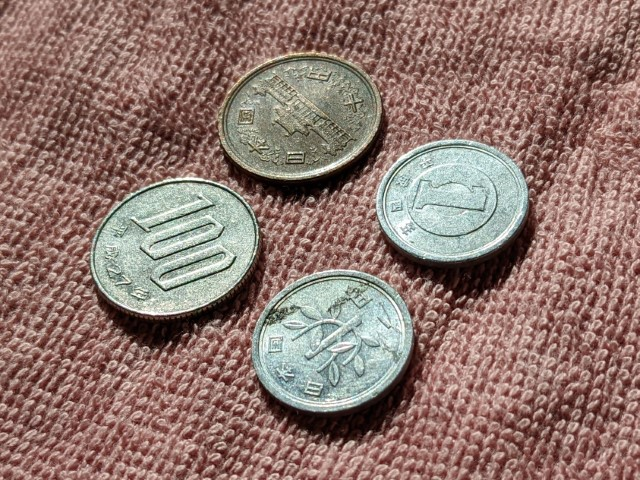100yen: (90, 177, 262, 322)
10yen: (218, 53, 382, 183)
1yen: (252, 270, 414, 415), (377, 139, 529, 267)
